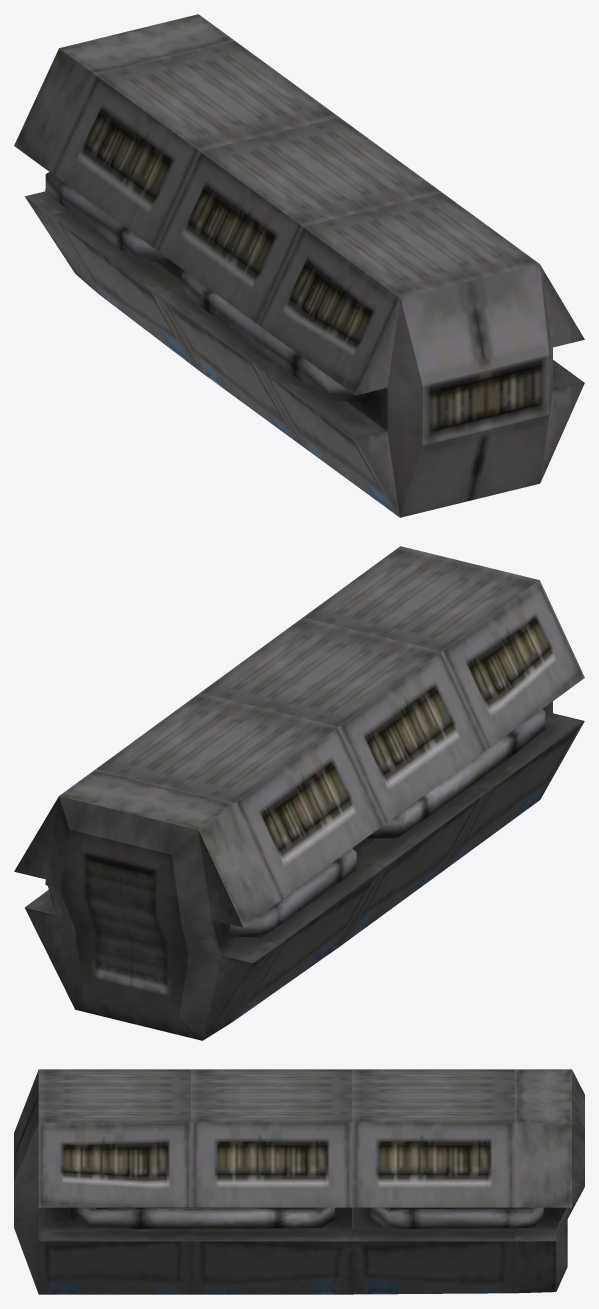
The model's file is cargo_debris_crate_s01_l2.fbx.
3 renders of one model, top to bottom at view 1: azimuth 30°, elevation 25°; view 2: azimuth 150°, elevation 25°; view 3: azimuth 270°, elevation 25°, orthographic. The views are drawn at different scales.
Visible parts, largest first — view 1: mesh_node; view 2: mesh_node; view 3: mesh_node.
Boxes of the visible parts, x1,y1,x2,y2 form: mesh_node: (14, 14, 584, 517); mesh_node: (14, 546, 584, 1040); mesh_node: (14, 1069, 584, 1294).
Bounding box in the file's own units: 7.21 × 6.59 × 19.86.
